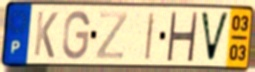G: (60, 9, 92, 62)
H: (165, 10, 200, 63)
I: (143, 10, 157, 62)
K: (32, 10, 60, 61)
V: (199, 10, 232, 64)
Z: (94, 11, 130, 61)
